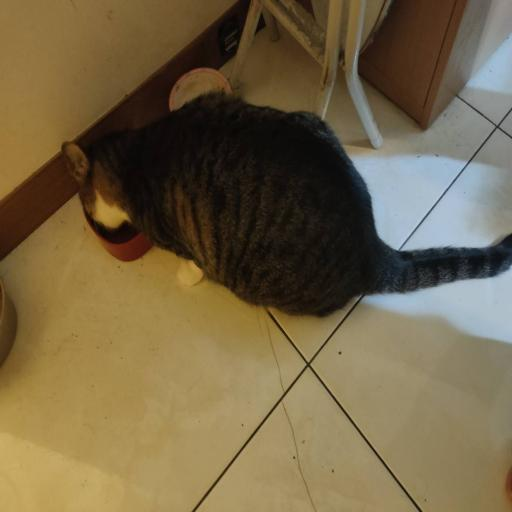cat: (68, 102, 400, 308)
